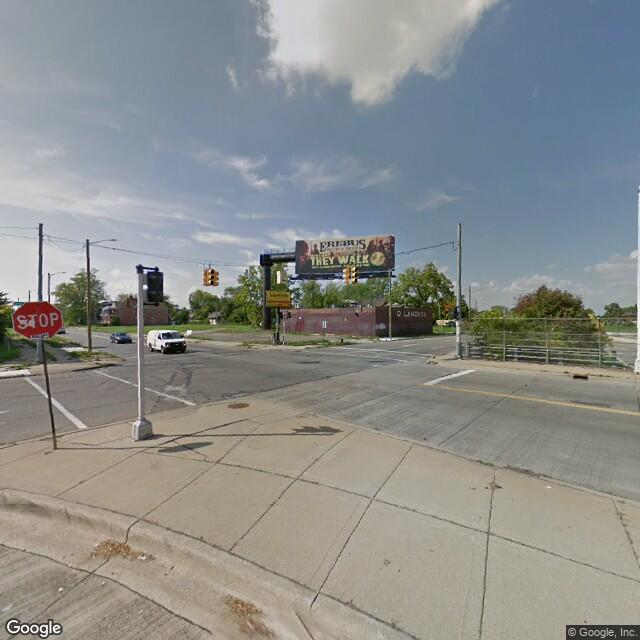litter: (137, 552, 147, 560), (58, 584, 63, 593)
